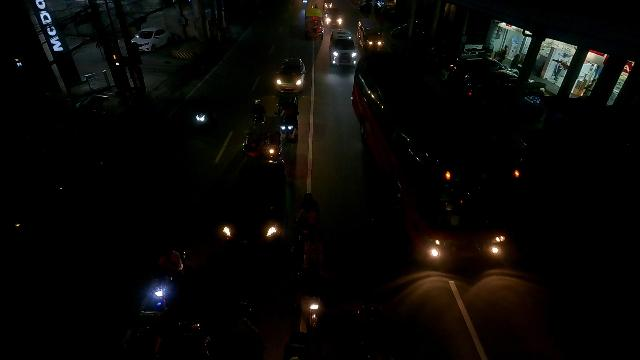car: (220, 166, 284, 248), (330, 28, 358, 65), (130, 27, 170, 52), (276, 58, 306, 91)
jeepney: (358, 17, 384, 50), (305, 6, 324, 38)
motorcycle: (280, 100, 299, 141), (251, 100, 265, 128)
